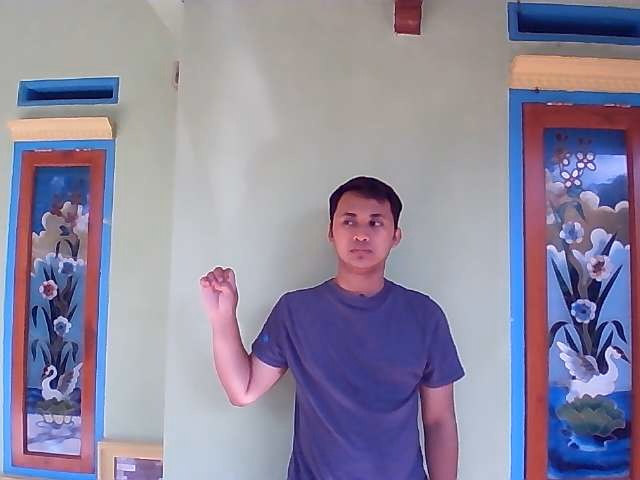E: (198, 266, 238, 315)
